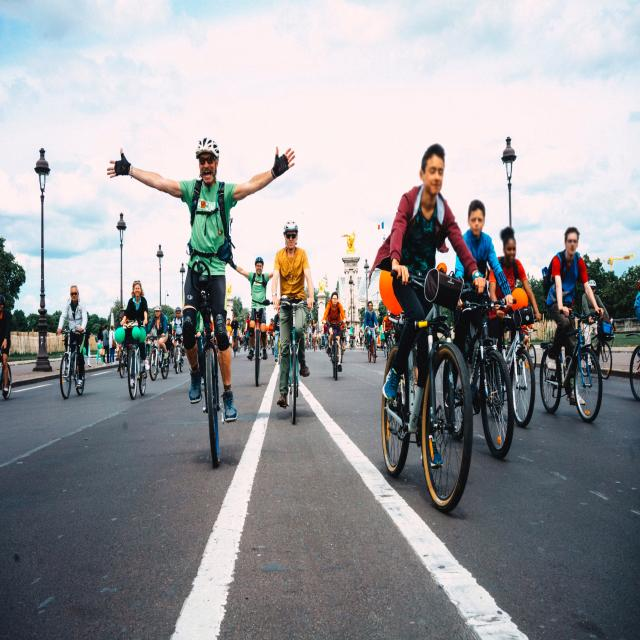adult: (108, 133, 294, 433), (376, 143, 487, 473), (541, 227, 602, 395), (451, 199, 510, 354), (275, 220, 314, 407), (223, 248, 276, 368), (496, 228, 540, 326), (58, 282, 90, 386), (121, 277, 150, 373), (322, 291, 347, 369), (147, 304, 169, 359), (364, 300, 379, 358), (172, 307, 184, 368), (95, 326, 104, 365), (102, 324, 109, 364), (109, 325, 116, 364)
